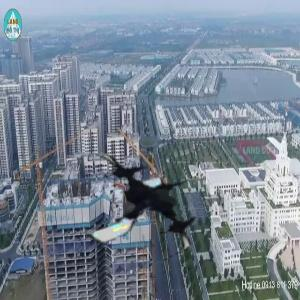drone: (65, 140, 201, 276)
